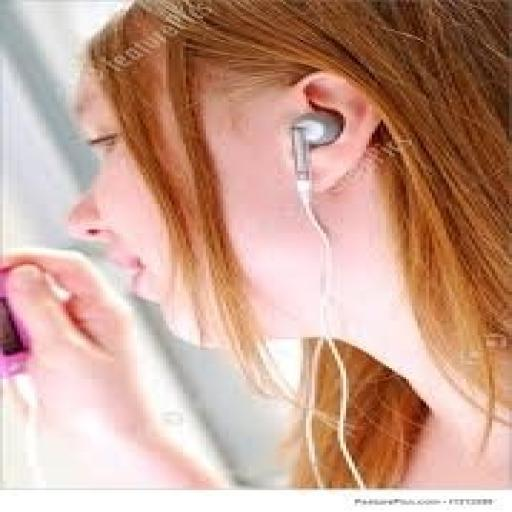listening_to_music: (0, 0, 509, 490)
